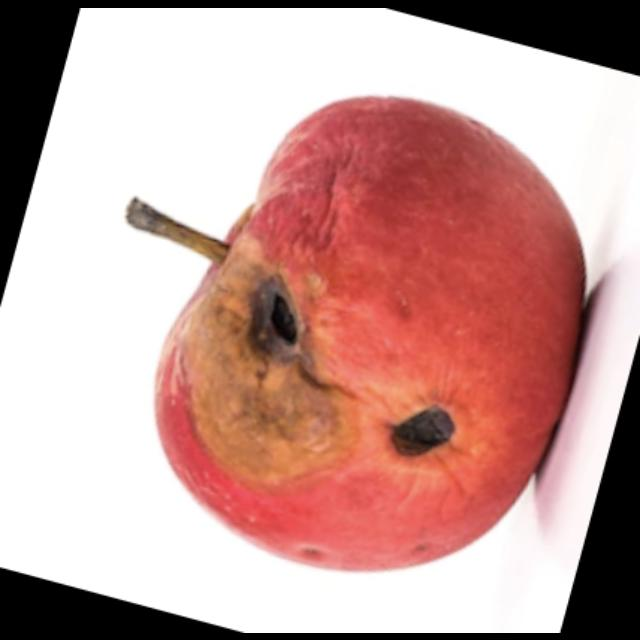Apel Tidak Segar: (140, 78, 594, 580)
